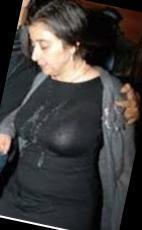Drunk: (27, 28, 71, 77)
